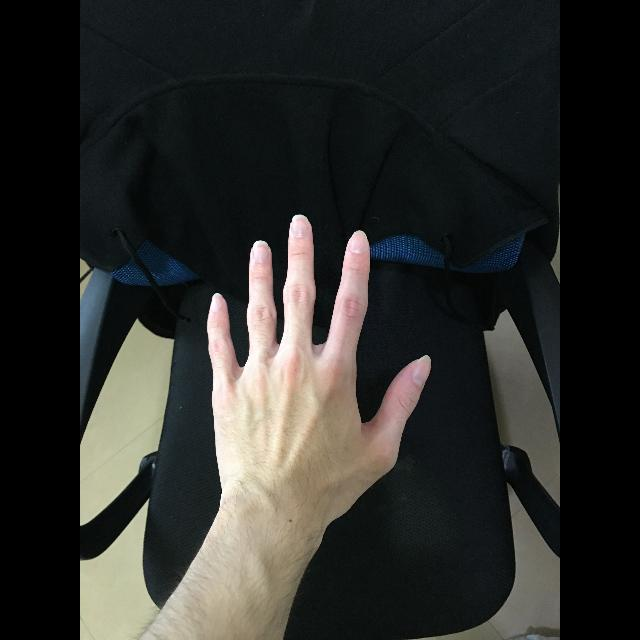bare_hand: (200, 207, 435, 506)
